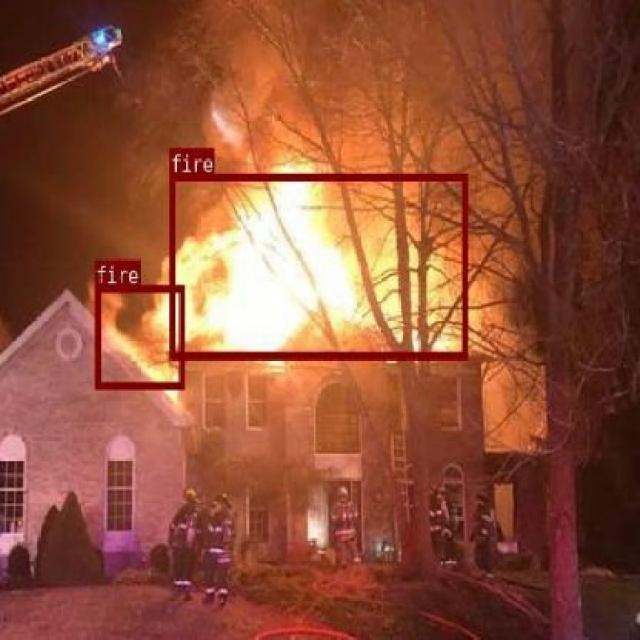Fire: (168, 172, 467, 357), (94, 283, 183, 388)
